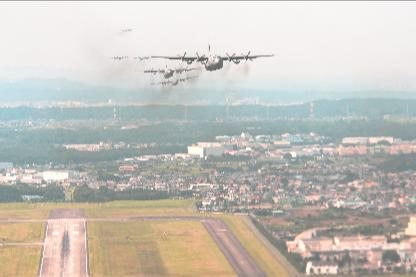Be200: (150, 38, 276, 70), (134, 60, 200, 77), (150, 75, 198, 85), (130, 53, 151, 59), (108, 53, 130, 58), (116, 26, 134, 31)
